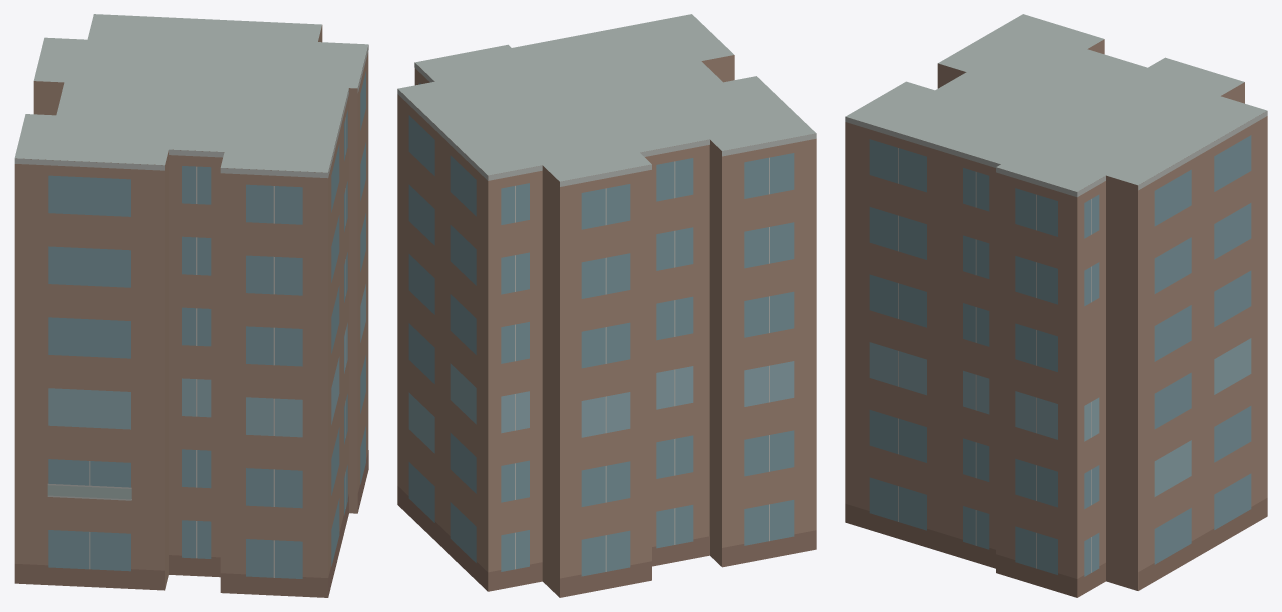
File: survey-upis-32629173.glb
3 renders of one model, left to right at view 1: azimuth 30°, elevation 25°; view 2: azimuth 150°, elevation 25°; view 3: azimuth 270°, elevation 25°, orthographic. The views are drawn at different scales.
Visible parts, largest first — view 1: survey-upis-32629173.tmp; view 2: survey-upis-32629173.tmp; view 3: survey-upis-32629173.tmp.
Part boxes in pixels (x1=…): survey-upis-32629173.tmp: x1=14, y1=14, x2=368, y2=597; survey-upis-32629173.tmp: x1=397, y1=14, x2=816, y2=597; survey-upis-32629173.tmp: x1=845, y1=14, x2=1267, y2=597.
Size of the model in its own units: 17.79 by 18.9 by 17.83.
